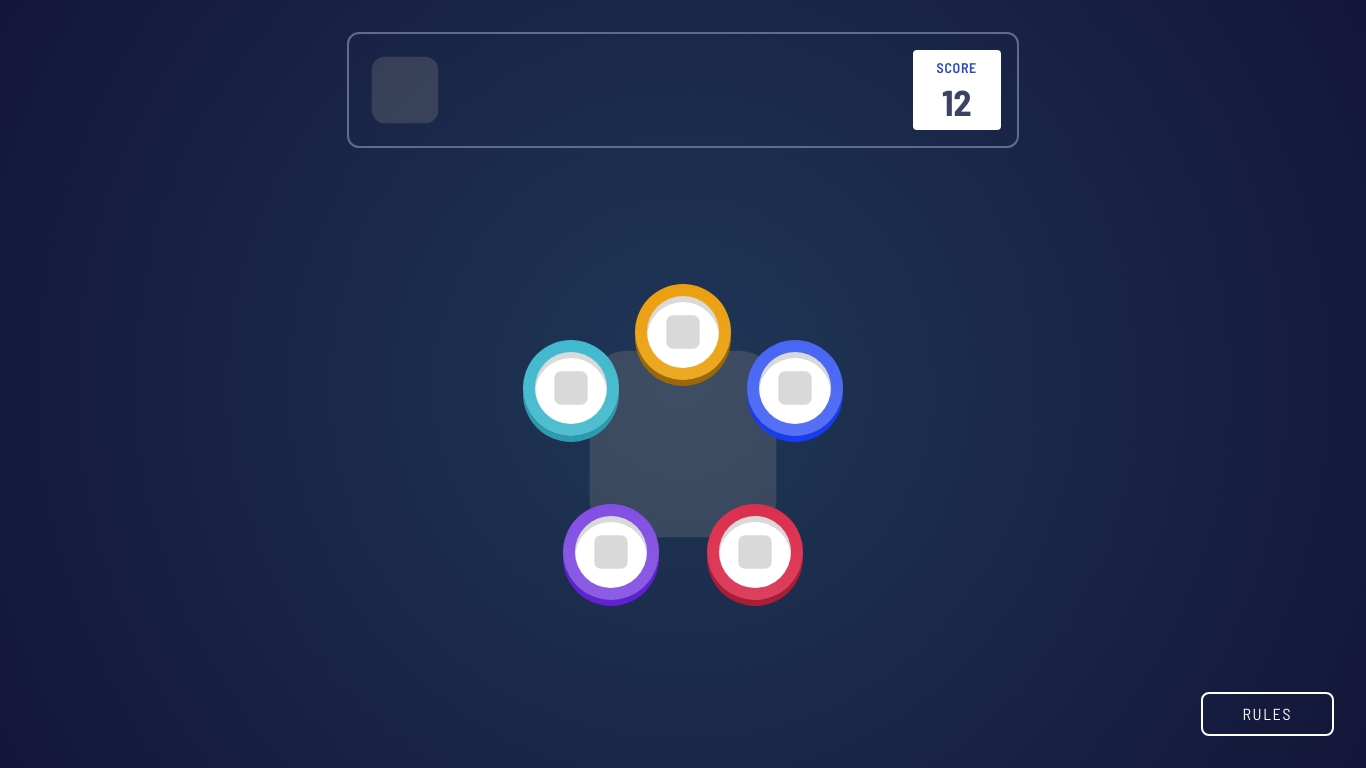
Scenario: Game Winning Logic › Paper beats Rock
Click the button named "Select paper" at (795, 388), box [747, 340, 843, 436]
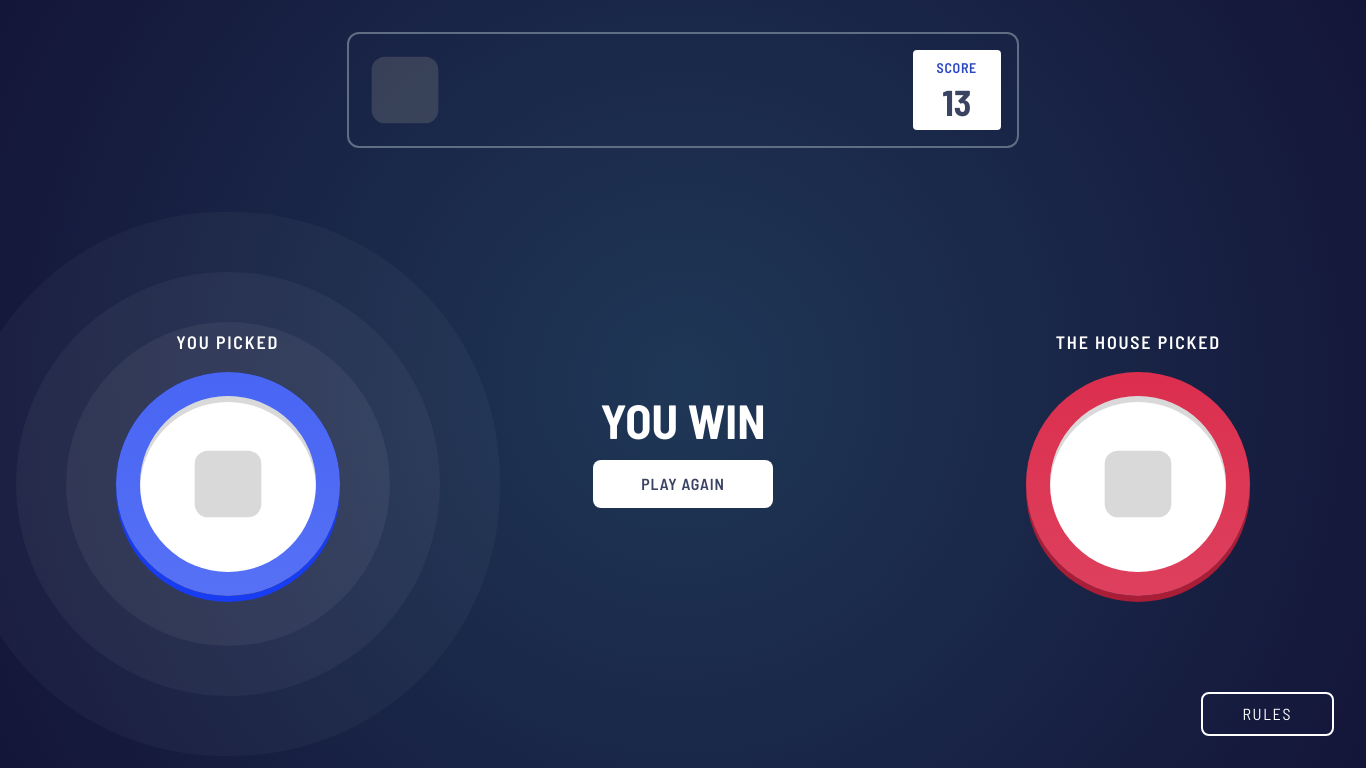
Check: the text "You Picked" is shown, box [176, 328, 279, 356]
Check: the text "The House Picked" is shown, box [1056, 328, 1221, 356]
